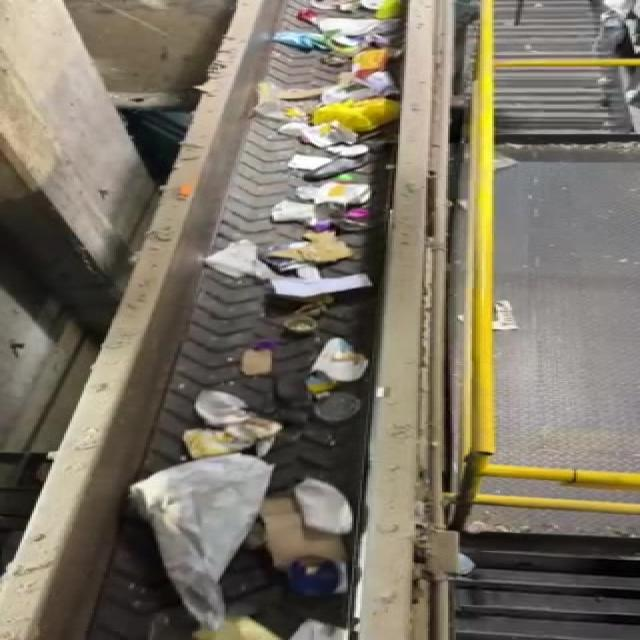paper: (116, 446, 264, 634), (298, 477, 366, 543), (302, 329, 369, 383), (224, 341, 287, 382)
pp: (185, 389, 256, 426), (306, 387, 368, 424)
